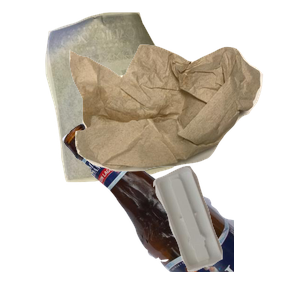glass: (60, 120, 300, 300)
paper: (43, 10, 221, 185)
plastic: (150, 163, 300, 300)
trash: (67, 42, 300, 206)
